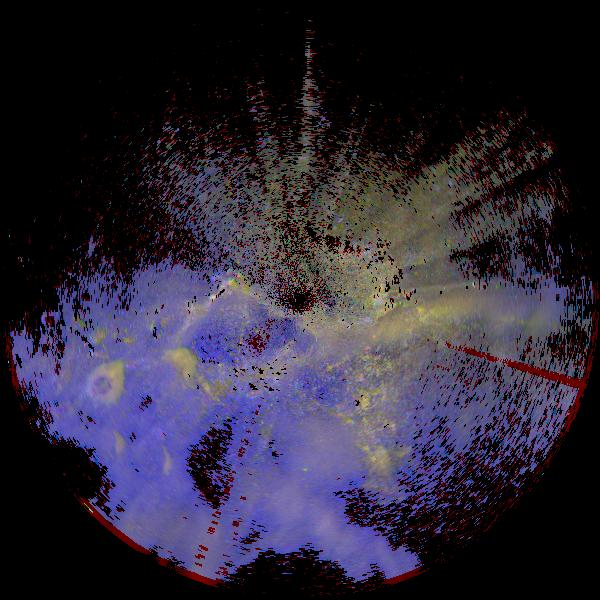roost: (153, 348, 198, 393), (85, 365, 124, 404), (176, 374, 215, 413), (92, 425, 128, 461), (142, 439, 178, 475)
